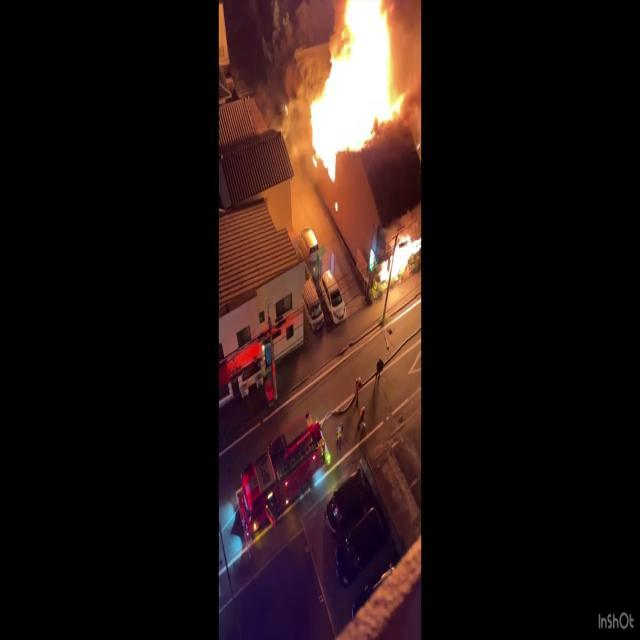Fire: (304, 0, 408, 166), (375, 222, 420, 296)
